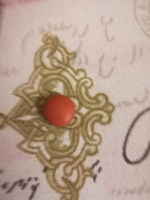Dolorex: (42, 94, 78, 130)
